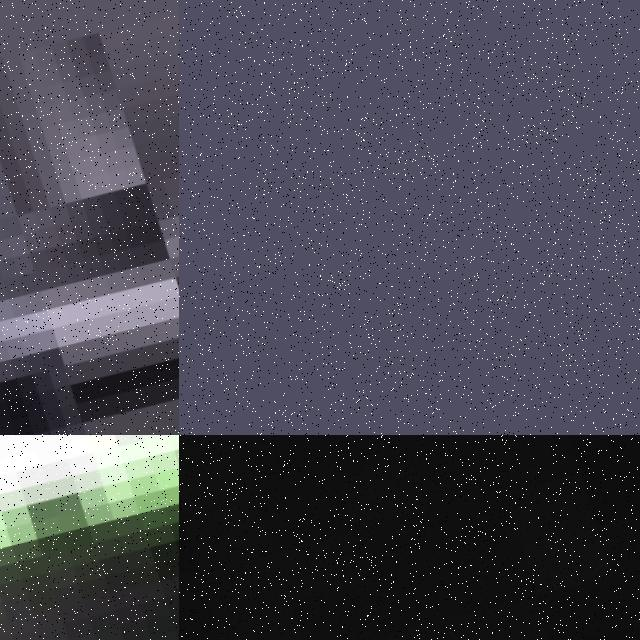drone: (179, 435, 640, 640), (0, 0, 179, 435), (0, 435, 179, 640)
